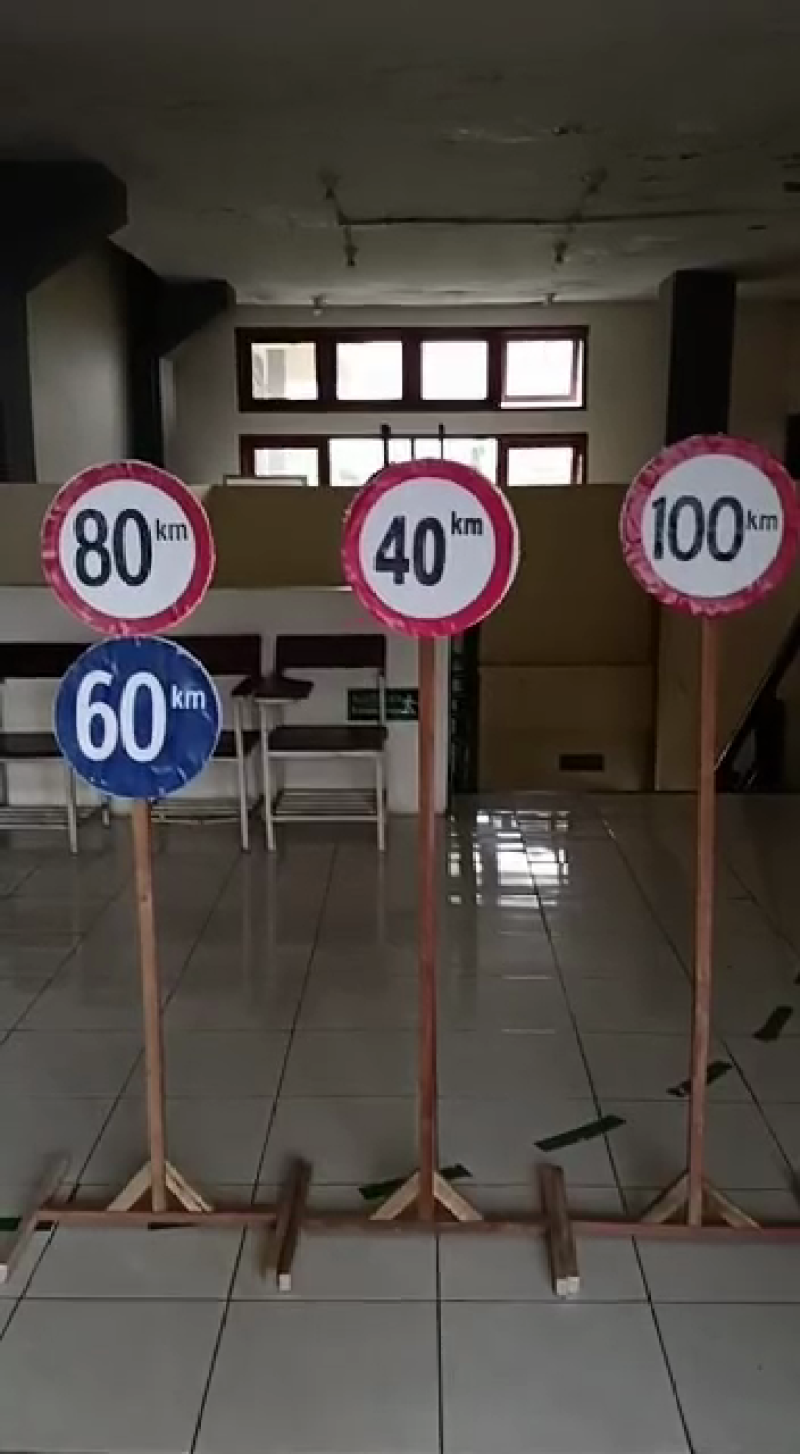batas maksimal 100kmperjam: (618, 411, 800, 637)
batas maksimal 40kmperjam: (326, 431, 524, 648)
batas maksimal 80kmperjam minimal 60kmperjam: (33, 451, 231, 798)
